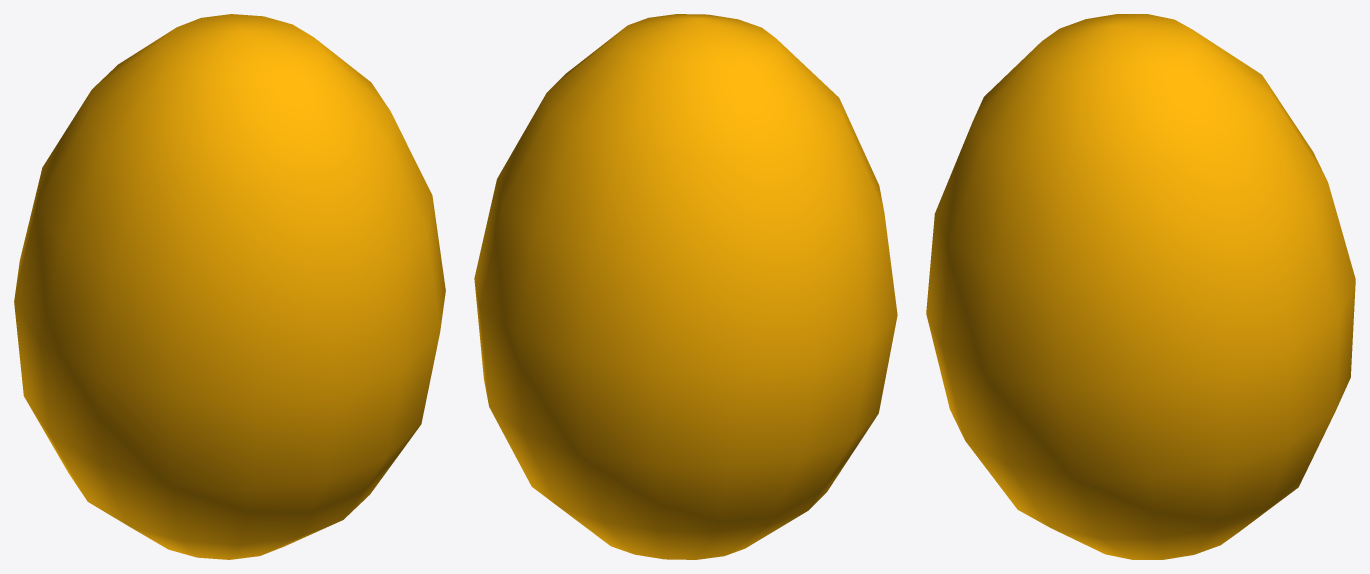
The model's file is goldenegg.FBX.
3 views of the same model, side by side, from view 1: azimuth 30°, elevation 25°; view 2: azimuth 150°, elevation 25°; view 3: azimuth 270°, elevation 25° (orthographic). The views are drawn at different scales.
Visible parts, largest first — view 1: goldenegg; view 2: goldenegg; view 3: goldenegg.
Boxes of the visible parts, box(x1,y1,x2,y2) form: goldenegg: box(14, 14, 445, 559); goldenegg: box(474, 14, 897, 559); goldenegg: box(926, 14, 1355, 559).
Bounding box in the file's own units: 13.71 × 18.16 × 13.66.
